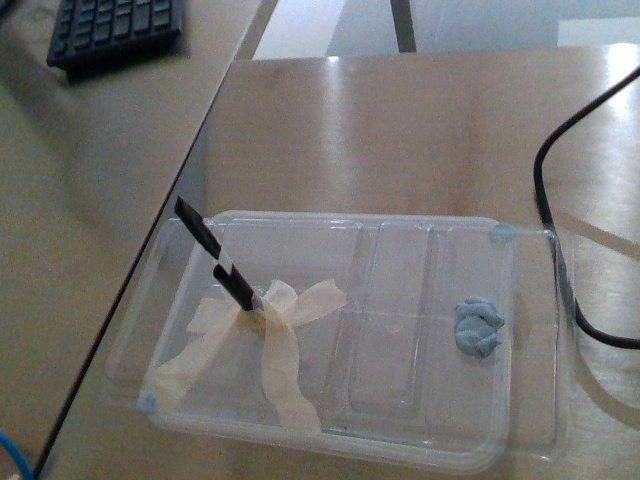test_strip: (170, 193, 232, 276)
